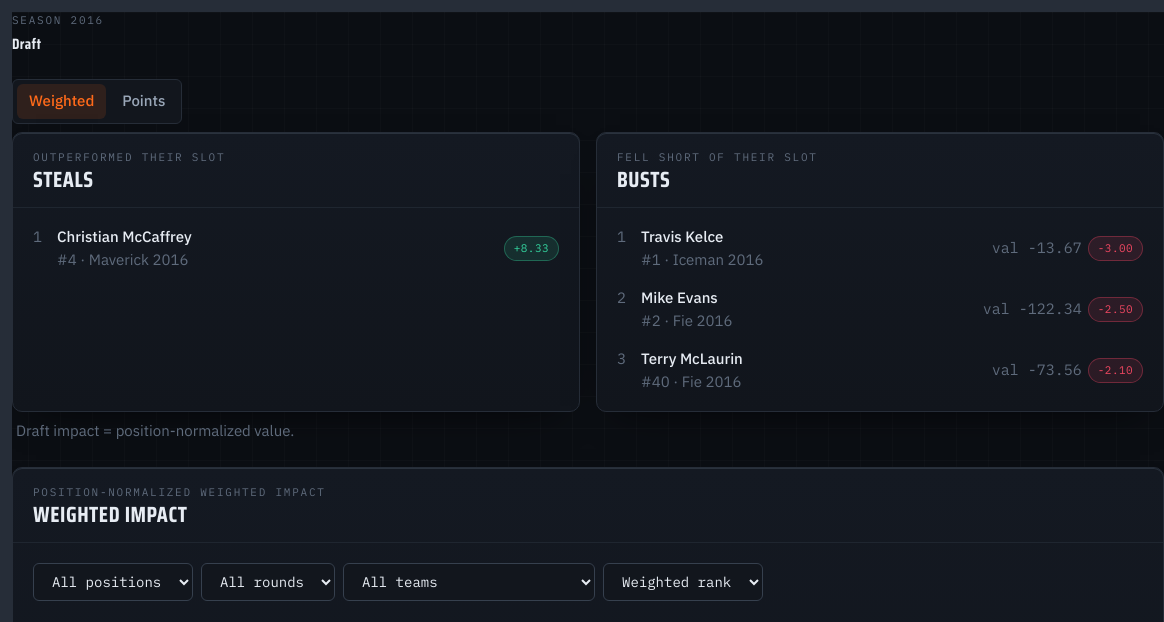
Scenario: DraftPage › switches leaderboards and chart together between weighted and points lenses
Expected: the text "Terry McLaurin" is shown, [641, 348, 743, 370]
Expected: the text "James Conner" is not shown
Click the tab "Points": (144, 101) [110, 84, 177, 118]
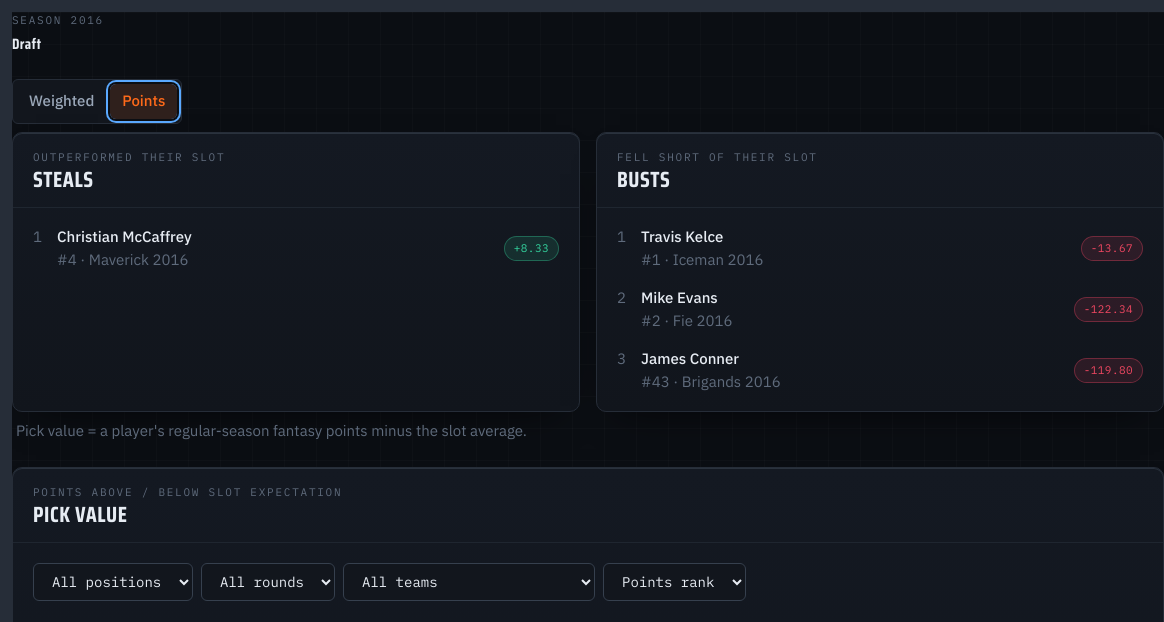
Now the text "James Conner" is shown, box [641, 348, 739, 370]
Now the button "Terry McLaurin" is gone
Now the heading "Pick value" is shown, box [33, 497, 128, 532]
